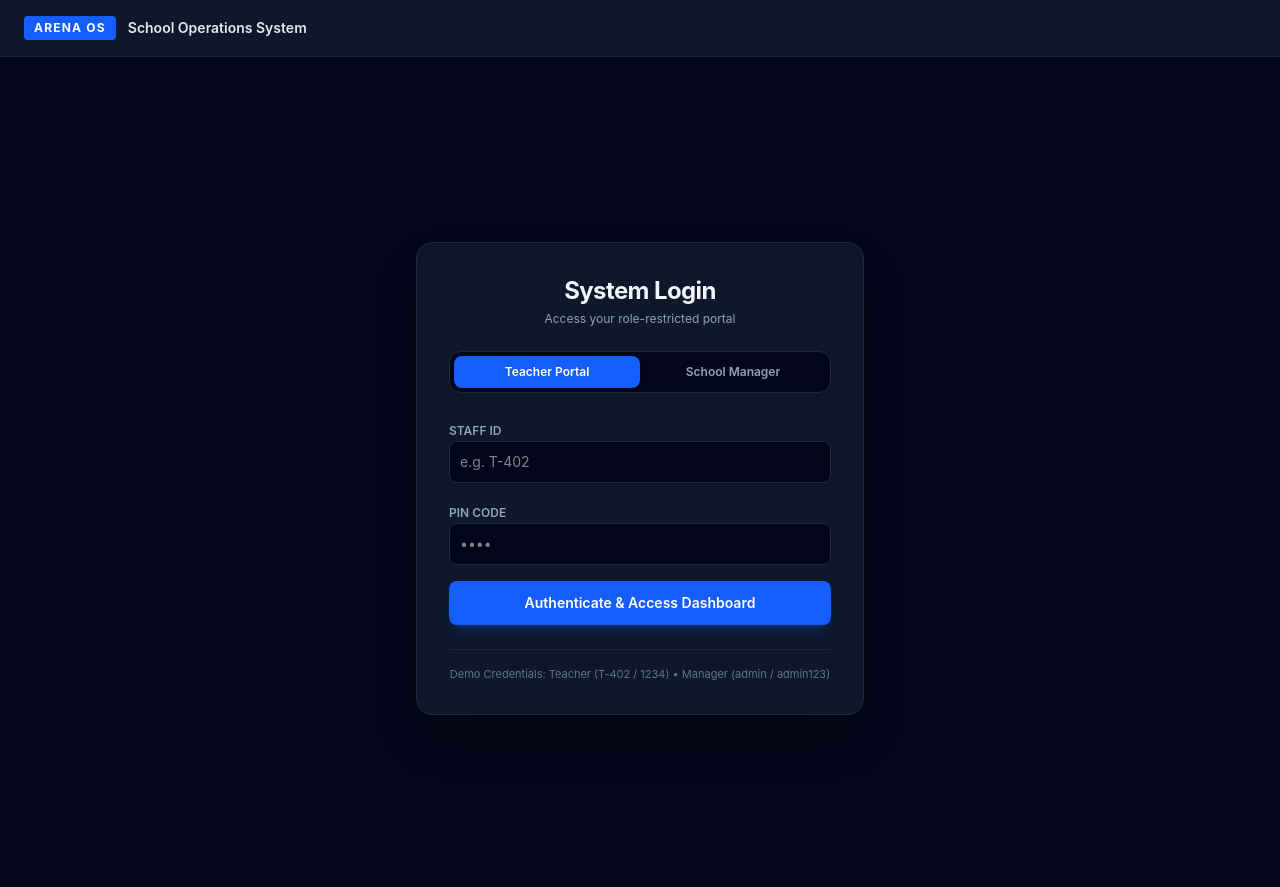
Test: Attendance engine › offers four statuses and keys the register to the live session date (fixes 4, 6)
Type "T-402" into the field labelled "Staff ID".
click(640, 462); type("T-402")  # box x1=449 y1=441 x2=831 y2=483
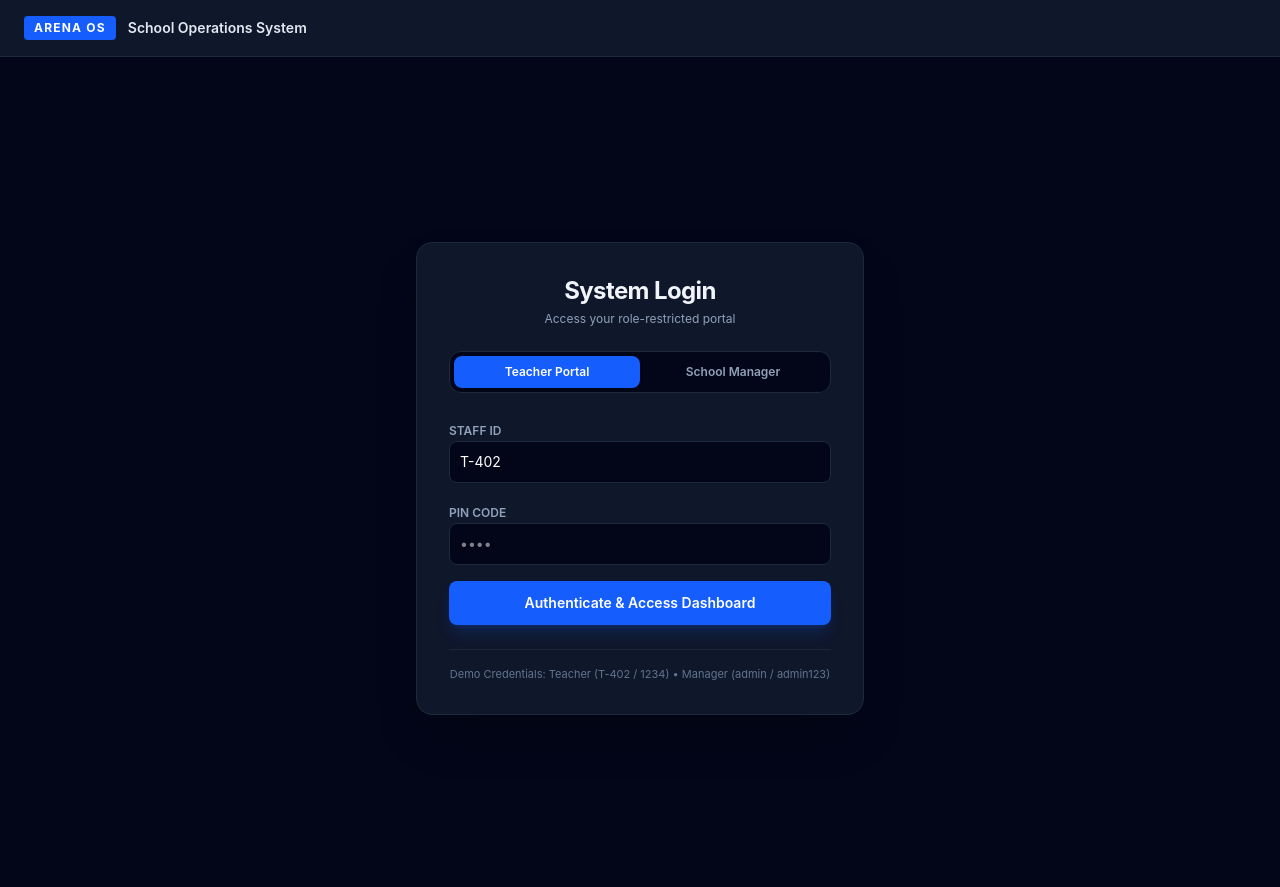
Type "1234" into the password field labelled "PIN Code".
click(640, 544); type("1234")  # box x1=449 y1=523 x2=831 y2=565
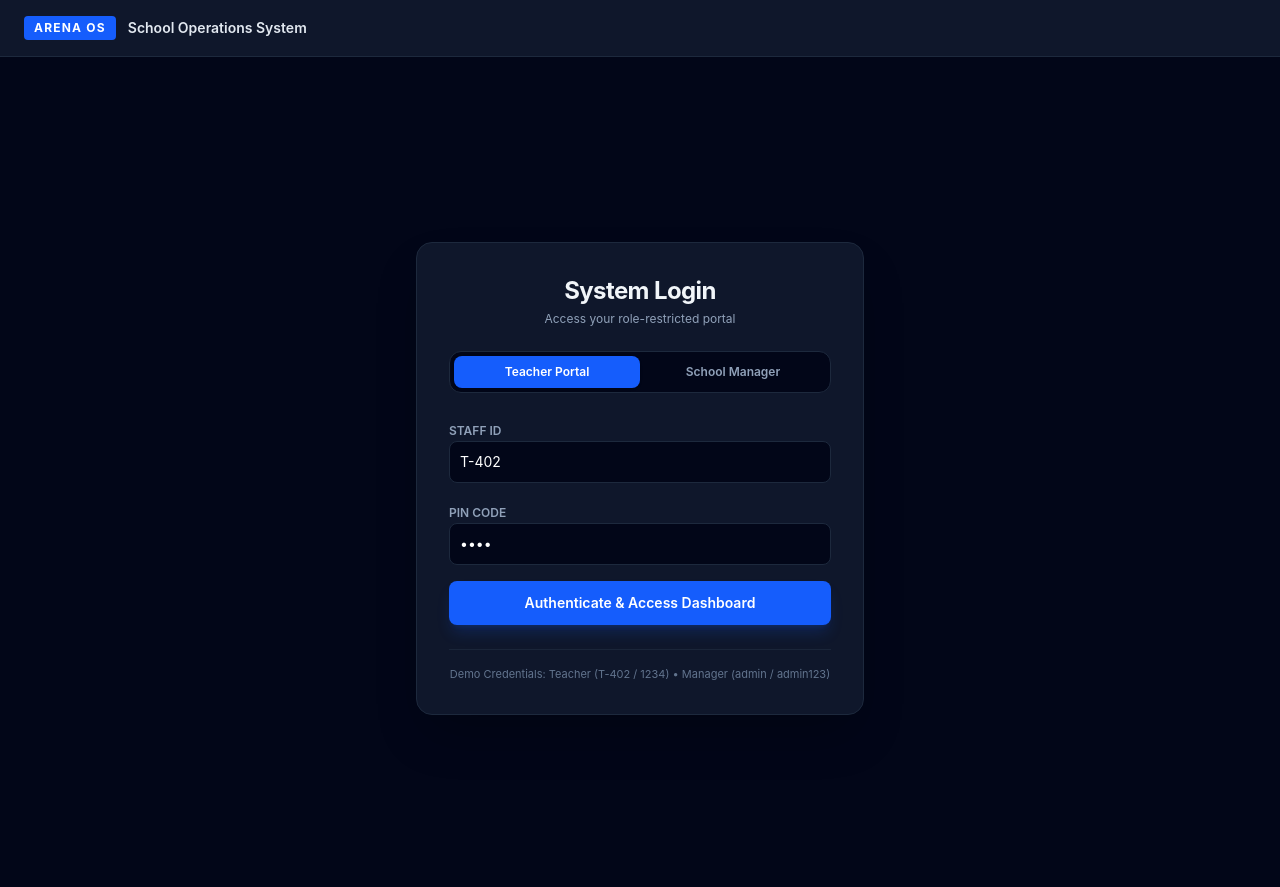
Click the button "Authenticate & Access Dashboard".
click(640, 603)  # box x1=449 y1=581 x2=831 y2=625
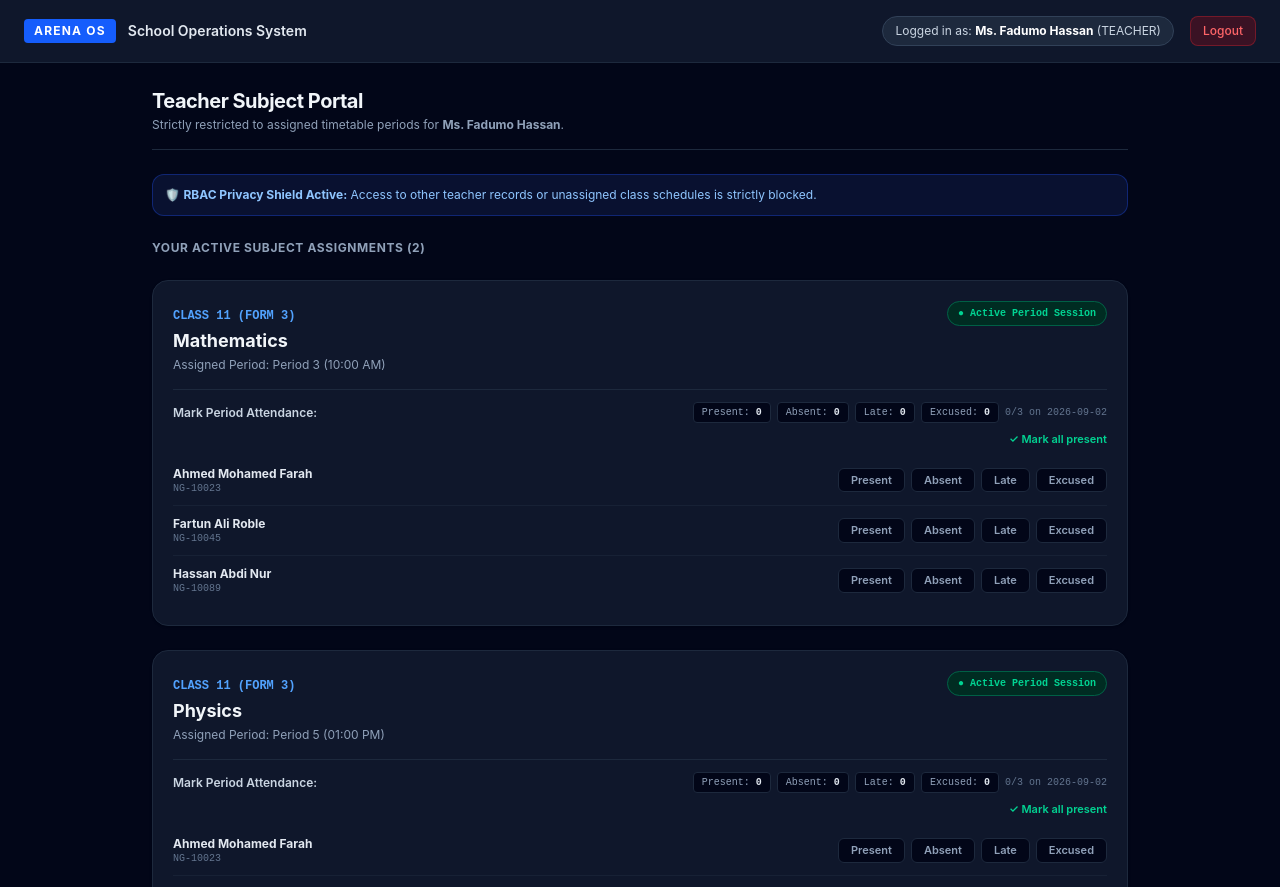
expect the number of buttons "Present" is 6: met
expect the number of buttons "Absent" is 6: met
expect the number of buttons "Late" is 6: met
